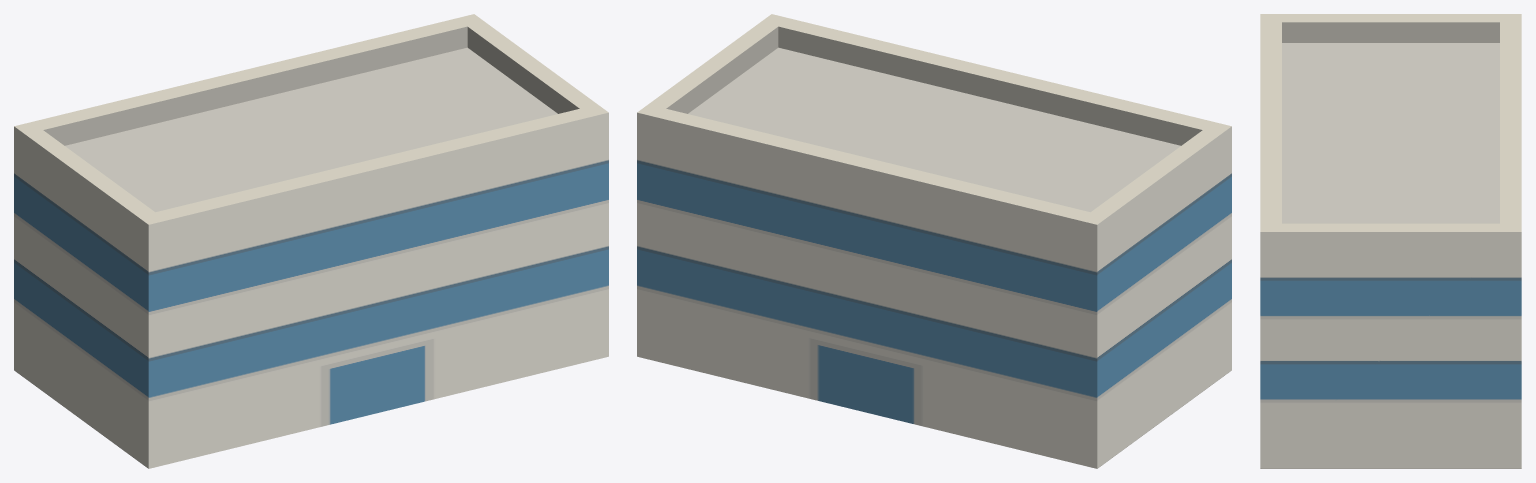
Rendered from building set 2_10.fbx.
The picture shows the model from 3 angles, left to right: view 1: azimuth 30°, elevation 25°; view 2: azimuth 150°, elevation 25°; view 3: azimuth 270°, elevation 25°; orthographic projection. The views are drawn at different scales.
Parts seen in each view (by area): view 1: pCube11; view 2: pCube11; view 3: pCube11.
Boxes of the visible parts, x1=… form: pCube11: x1=14, y1=14, x2=608, y2=468; pCube11: x1=637, y1=14, x2=1231, y2=468; pCube11: x1=1260, y1=14, x2=1521, y2=468.
Size of the model in its own units: 7.89 by 4 by 4.
